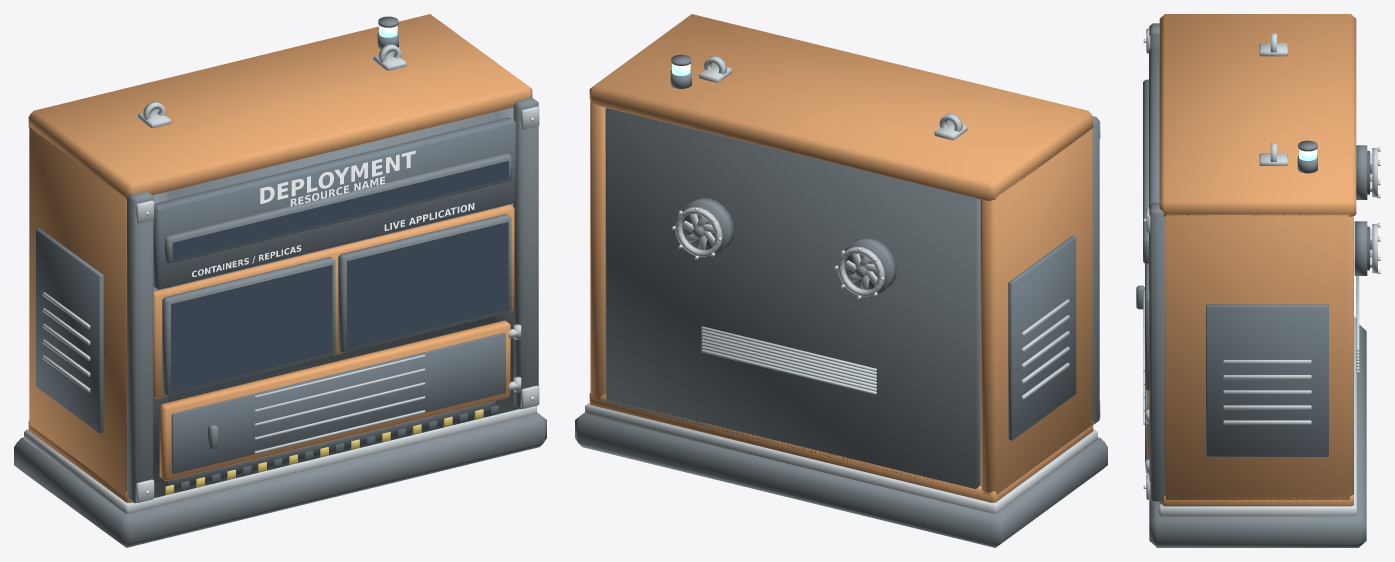
Rendered from deployment_line_standard.glb.
The picture shows the model from 3 angles, left to right: view 1: azimuth 30°, elevation 25°; view 2: azimuth 150°, elevation 25°; view 3: azimuth 270°, elevation 25°; orthographic projection. The views are drawn at different scales.
Visible parts, largest first — view 1: Roof_orange, FrontHeader_graphite, SideWall_orange, DoorMoving_Inset_graphite, Skid_frame, ContainerListSurface_glass, LiveViewSurface_glass, CornerPost_frame, SideServicePanel_graphite, DoorMoving_Panel_orange, ResourceNameSurface_glass, SealHeader_frame (+15 smaller); view 2: BackWall_frame, Roof_orange, SideWall_orange, Skid_frame, SideServicePanel_graphite, SkidDeck_steel, KickPlate_orange, RearVent_steel, RearFan_steel, CornerPost_frame, RearFan_frame, SideLouver_steel (+1 smaller); view 3: Roof_orange, SideWall_orange, SideServicePanel_graphite, Skid_frame, CornerPost_frame, SkidDeck_steel, SideLouver_steel, FrontHeader_graphite, KickPlate_orange, RearFan_frame, ResourceNameSurfaceFrame_frame, RearFan_steel (+4 smaller).
Part boxes in pixels (x1,y1,x2,y2): Roof_orange: (28, 14, 532, 199); FrontHeader_graphite: (153, 117, 515, 289); SideWall_orange: (29, 127, 126, 494); DoorMoving_Inset_graphite: (171, 332, 505, 473); Skid_frame: (14, 412, 546, 547); ContainerListSurface_glass: (171, 265, 332, 391); LiveViewSurface_glass: (347, 222, 508, 349); CornerPost_frame: (127, 97, 538, 503); SideServicePanel_graphite: (36, 228, 103, 433); DoorMoving_Panel_orange: (159, 320, 510, 480); ResourceNameSurface_glass: (172, 161, 508, 260); SealHeader_frame: (168, 111, 495, 402); BackWall_frame: (605, 108, 980, 488); Roof_orange: (589, 14, 1093, 200); SideWall_orange: (590, 101, 1092, 495); Skid_frame: (575, 412, 1107, 547); SideServicePanel_graphite: (1008, 236, 1076, 440); SkidDeck_steel: (585, 403, 1097, 513); KickPlate_orange: (589, 393, 1093, 502); RearVent_steel: (701, 326, 876, 394); RearFan_steel: (675, 207, 885, 296); CornerPost_frame: (1092, 116, 1099, 424); RearFan_frame: (682, 197, 896, 295); SideLouver_steel: (1021, 299, 1069, 399); Roof_orange: (1159, 14, 1356, 216); SideWall_orange: (1164, 214, 1353, 499); SideServicePanel_graphite: (1206, 304, 1328, 456); Skid_frame: (1149, 325, 1366, 547); CornerPost_frame: (1149, 23, 1164, 501); SkidDeck_steel: (1159, 316, 1356, 516); SideLouver_steel: (1223, 360, 1311, 424); FrontHeader_graphite: (1149, 47, 1159, 289); KickPlate_orange: (1162, 495, 1353, 506); RearFan_frame: (1354, 145, 1367, 275); ResourceNameSurfaceFrame_frame: (1143, 79, 1148, 264); RearFan_steel: (1370, 148, 1377, 273).
Size of the model in its own units: 3 by 2.59 by 1.55.
